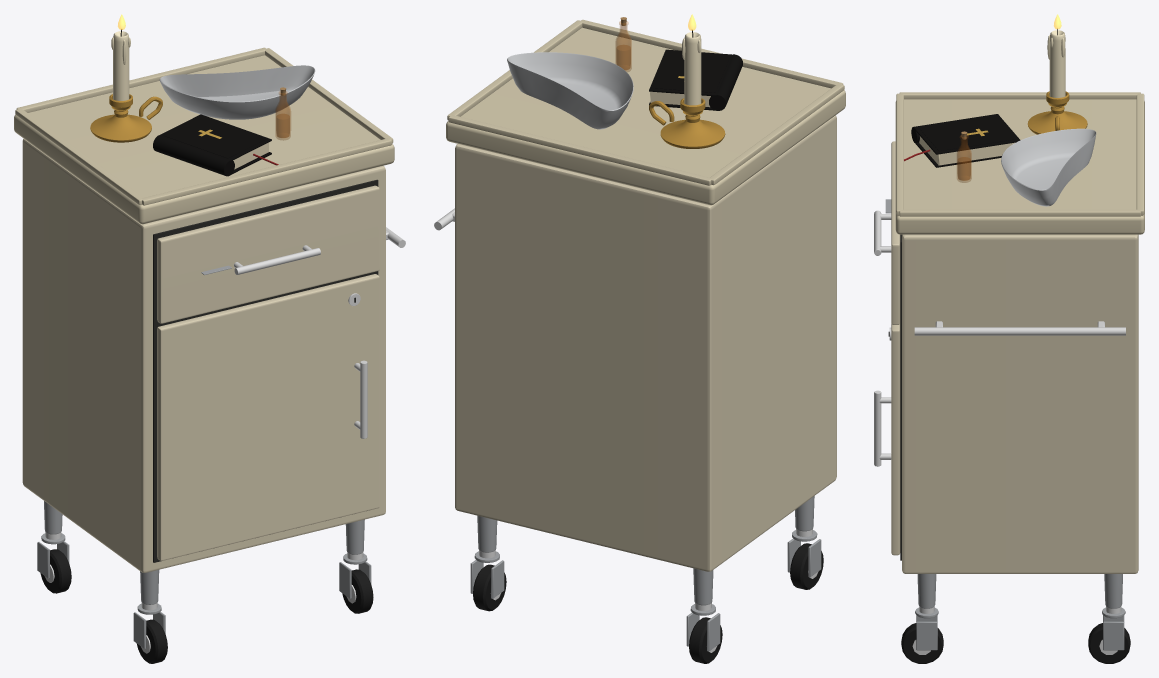
File: hosp_chevet.glb
3 views of the same model, side by side, from view 1: azimuth 30°, elevation 25°; view 2: azimuth 150°, elevation 25°; view 3: azimuth 270°, elevation 25° (orthographic). The views are drawn at different scales.
Visible parts, largest first — view 1: meuble, haricot, livre, bougeoir, poignees, bougie, fiole; view 2: meuble, haricot, livre, bougeoir, bougie, fiole; view 3: meuble, haricot, livre, poignees, bougeoir, bougie, fiole.
Part boxes in pixels (x1=…): meuble: x1=14, y1=47, x2=394, y2=663; haricot: x1=159, y1=65, x2=315, y2=119; livre: x1=153, y1=114, x2=278, y2=176; bougeoir: x1=90, y1=94, x2=162, y2=142; poignees: x1=201, y1=227, x2=405, y2=438; bougie: x1=111, y1=29, x2=130, y2=100; fiole: x1=275, y1=87, x2=290, y2=140; meuble: x1=446, y1=19, x2=845, y2=663; haricot: x1=507, y1=52, x2=633, y2=129; livre: x1=649, y1=49, x2=742, y2=110; bougeoir: x1=649, y1=98, x2=725, y2=148; bougie: x1=681, y1=30, x2=701, y2=105; fiole: x1=615, y1=17, x2=631, y2=71; meuble: x1=891, y1=92, x2=1144, y2=663; haricot: x1=1001, y1=128, x2=1096, y2=206; livre: x1=904, y1=114, x2=1020, y2=167; poignees: x1=874, y1=199, x2=1125, y2=466; bougeoir: x1=1027, y1=91, x2=1087, y2=134; bougie: x1=1047, y1=29, x2=1065, y2=97; fiole: x1=957, y1=131, x2=971, y2=182.
Size of the model in its own units: 0.4948 by 1.01 by 0.4348.
